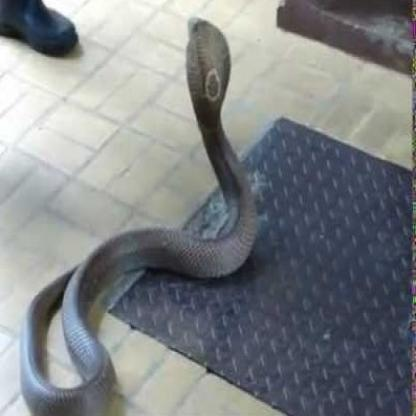snakes: (162, 5, 272, 286), (21, 227, 148, 405)
